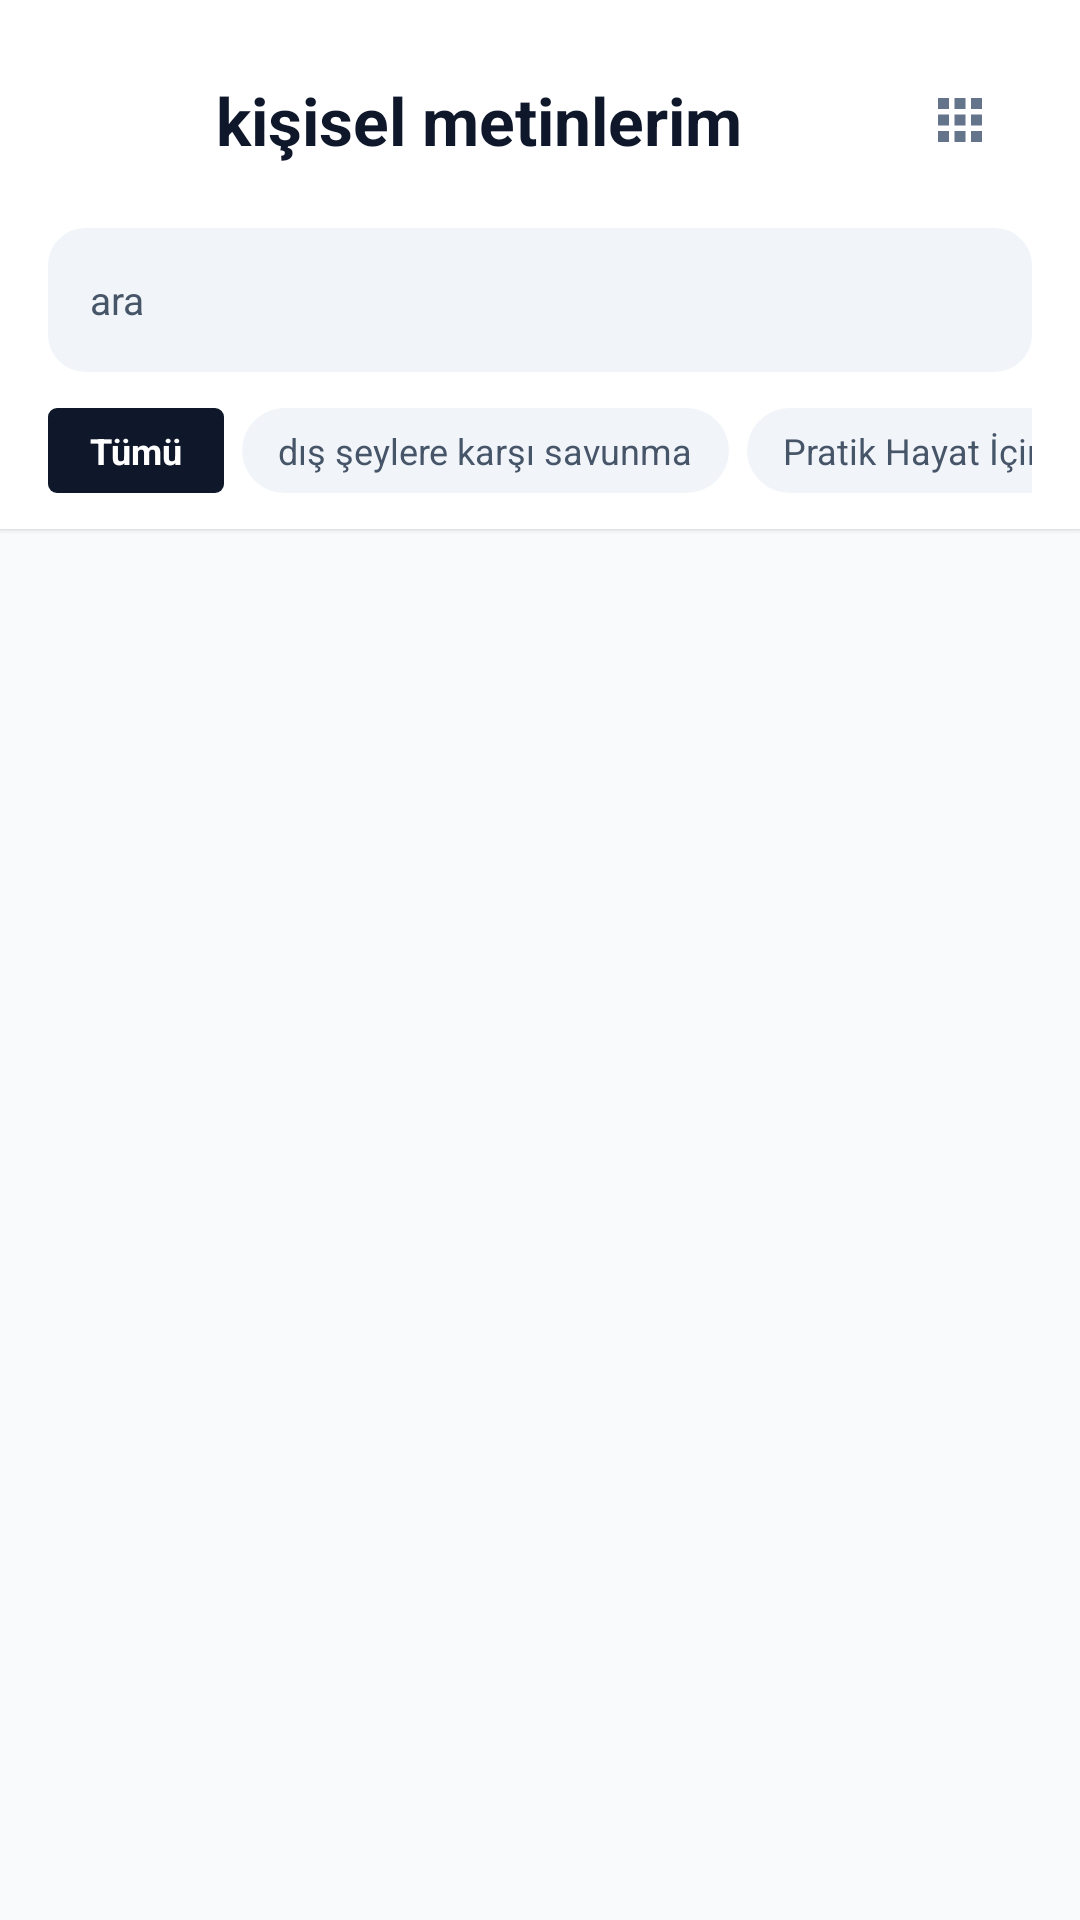

Named icons in this screenshot (1080px×1920px) and their centers, [x,y]:
Düzeni Değiştir: [960,120]
